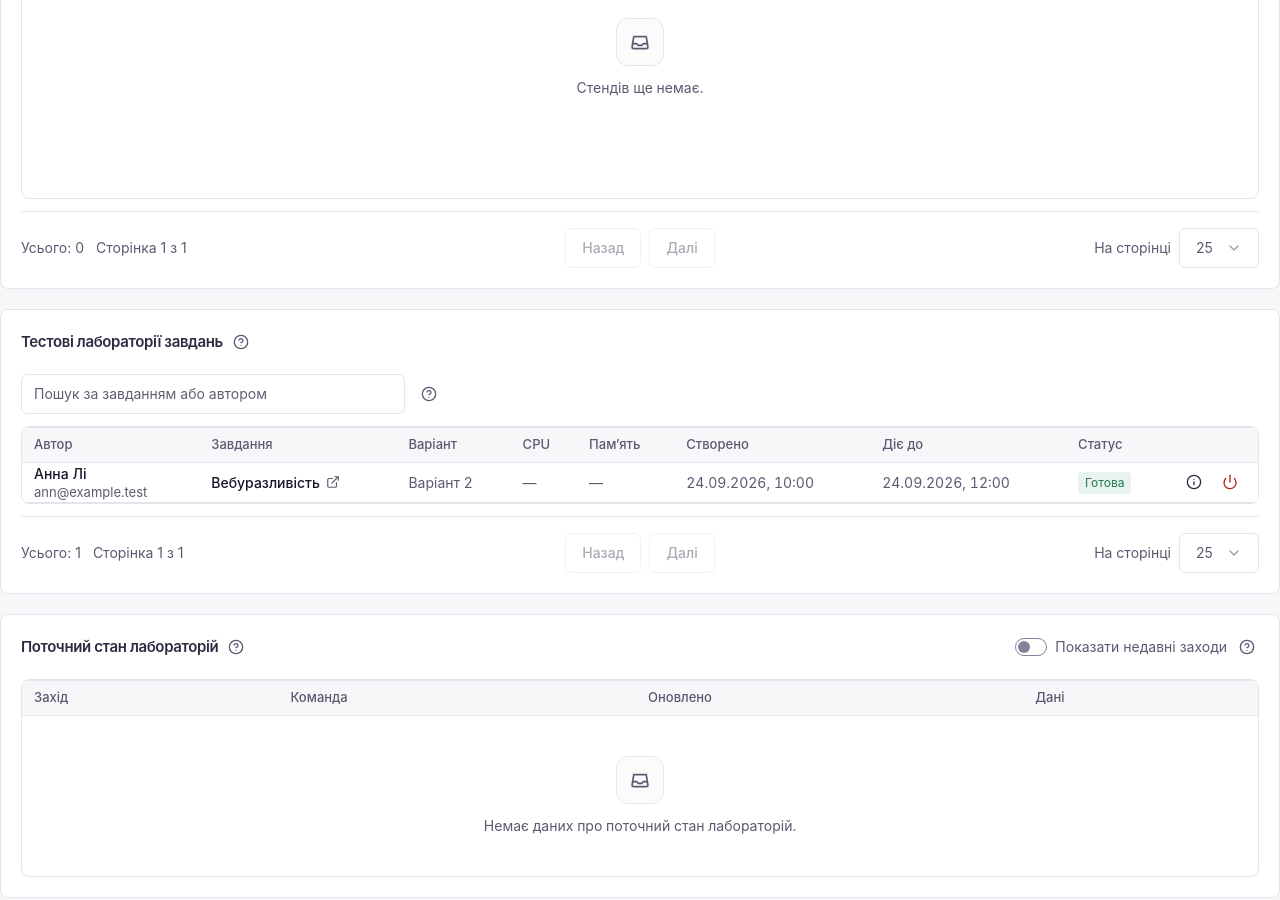
Scenario: infrastructure page › test labs › keeps the dialog open with a localized error when ending fails
(page scrolled)
expect the text "Вебуразливість" is shown: met, box [211,472,320,492]
Click the button named "Завершити лабораторію".
click(1230, 482)  # box [1214,466,1246,498]
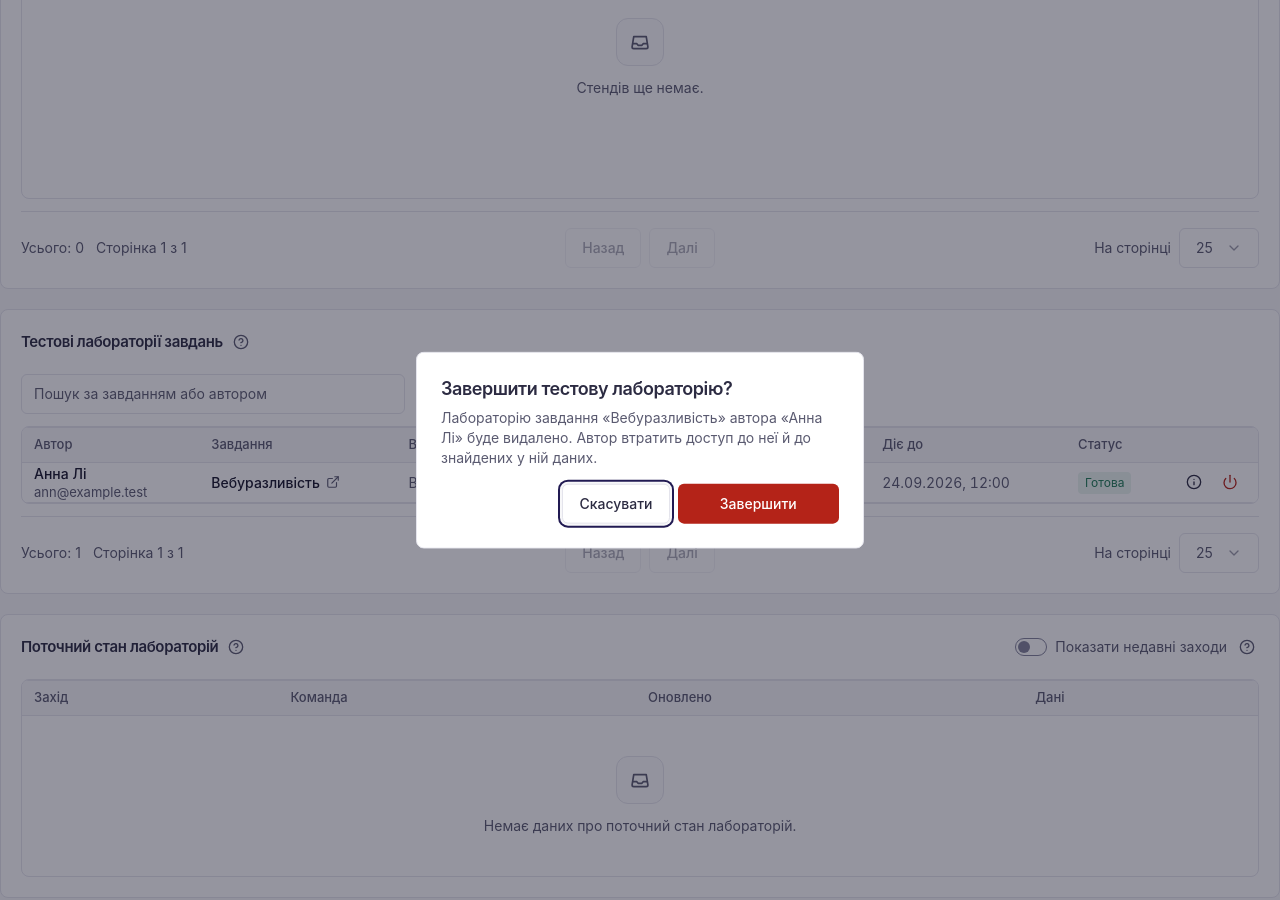
Click the button "Завершити".
click(758, 503)  # box [678,483,839,523]
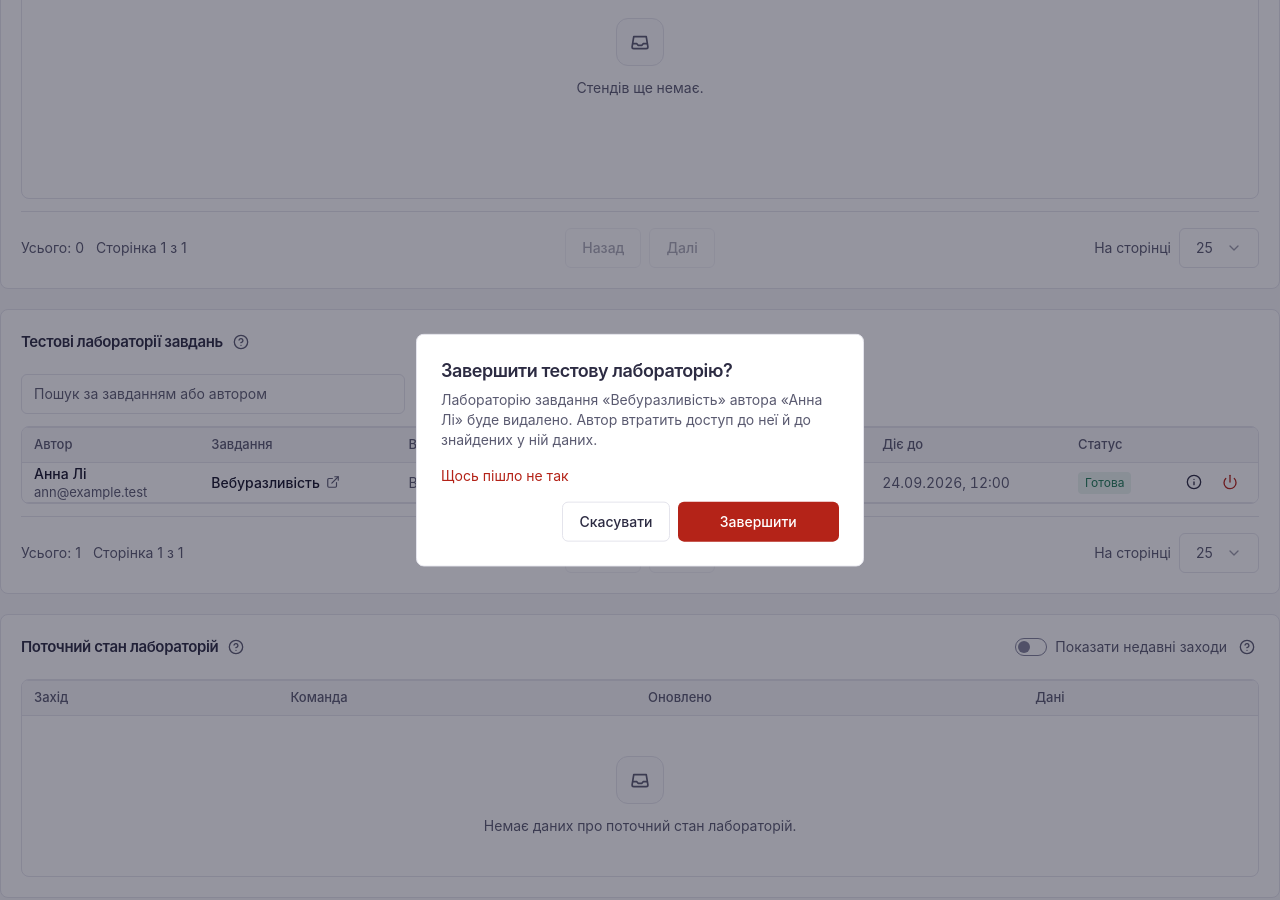
expect the dialog is shown: met, box [416,334,864,566]
expect the message "Щось пішло не так" is shown: met, box [441,466,569,483]
